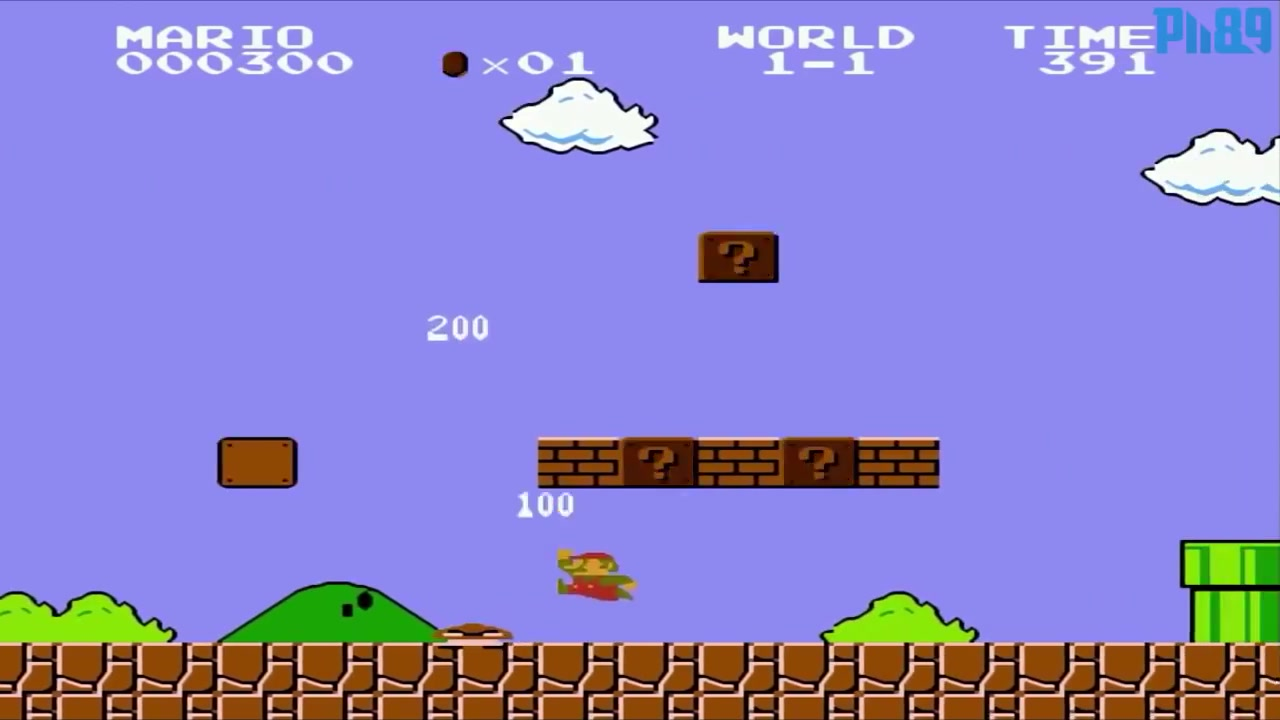mario: (548, 539, 639, 606)
